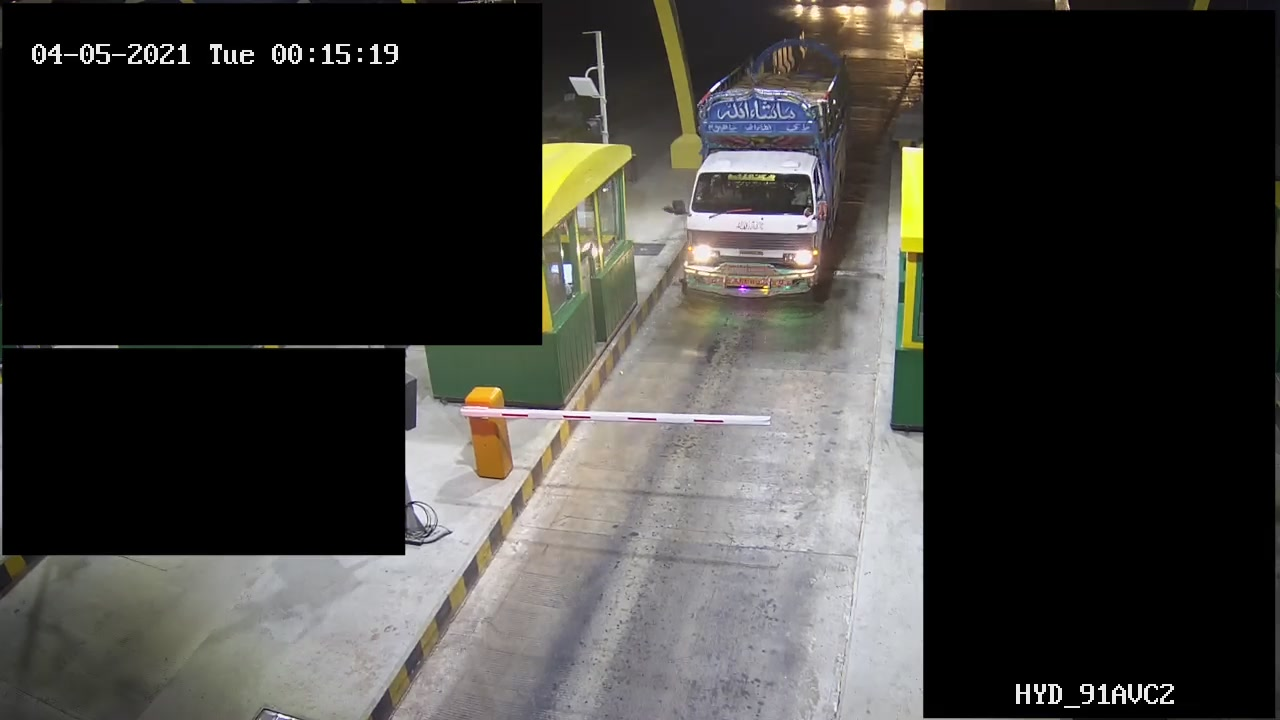F5: (679, 40, 872, 298)
